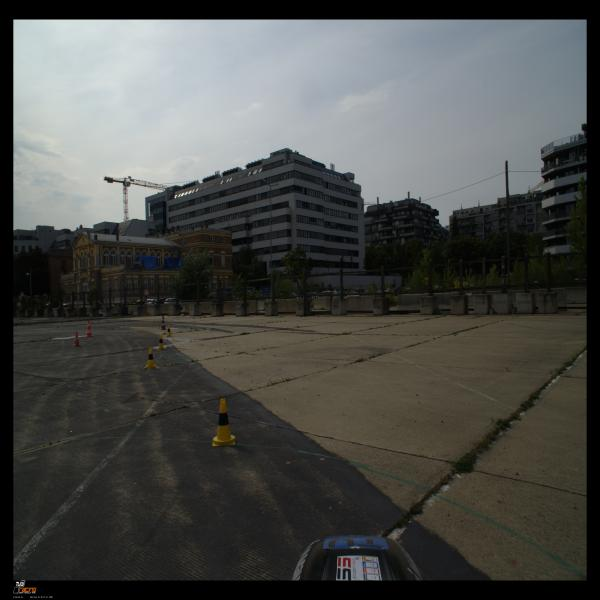large_orange_cone: (84, 320, 94, 338), (160, 315, 167, 330)
orange_cone: (72, 331, 82, 347)
yellow_cone: (212, 398, 235, 447), (144, 347, 158, 369), (156, 334, 166, 350), (166, 325, 172, 337)
